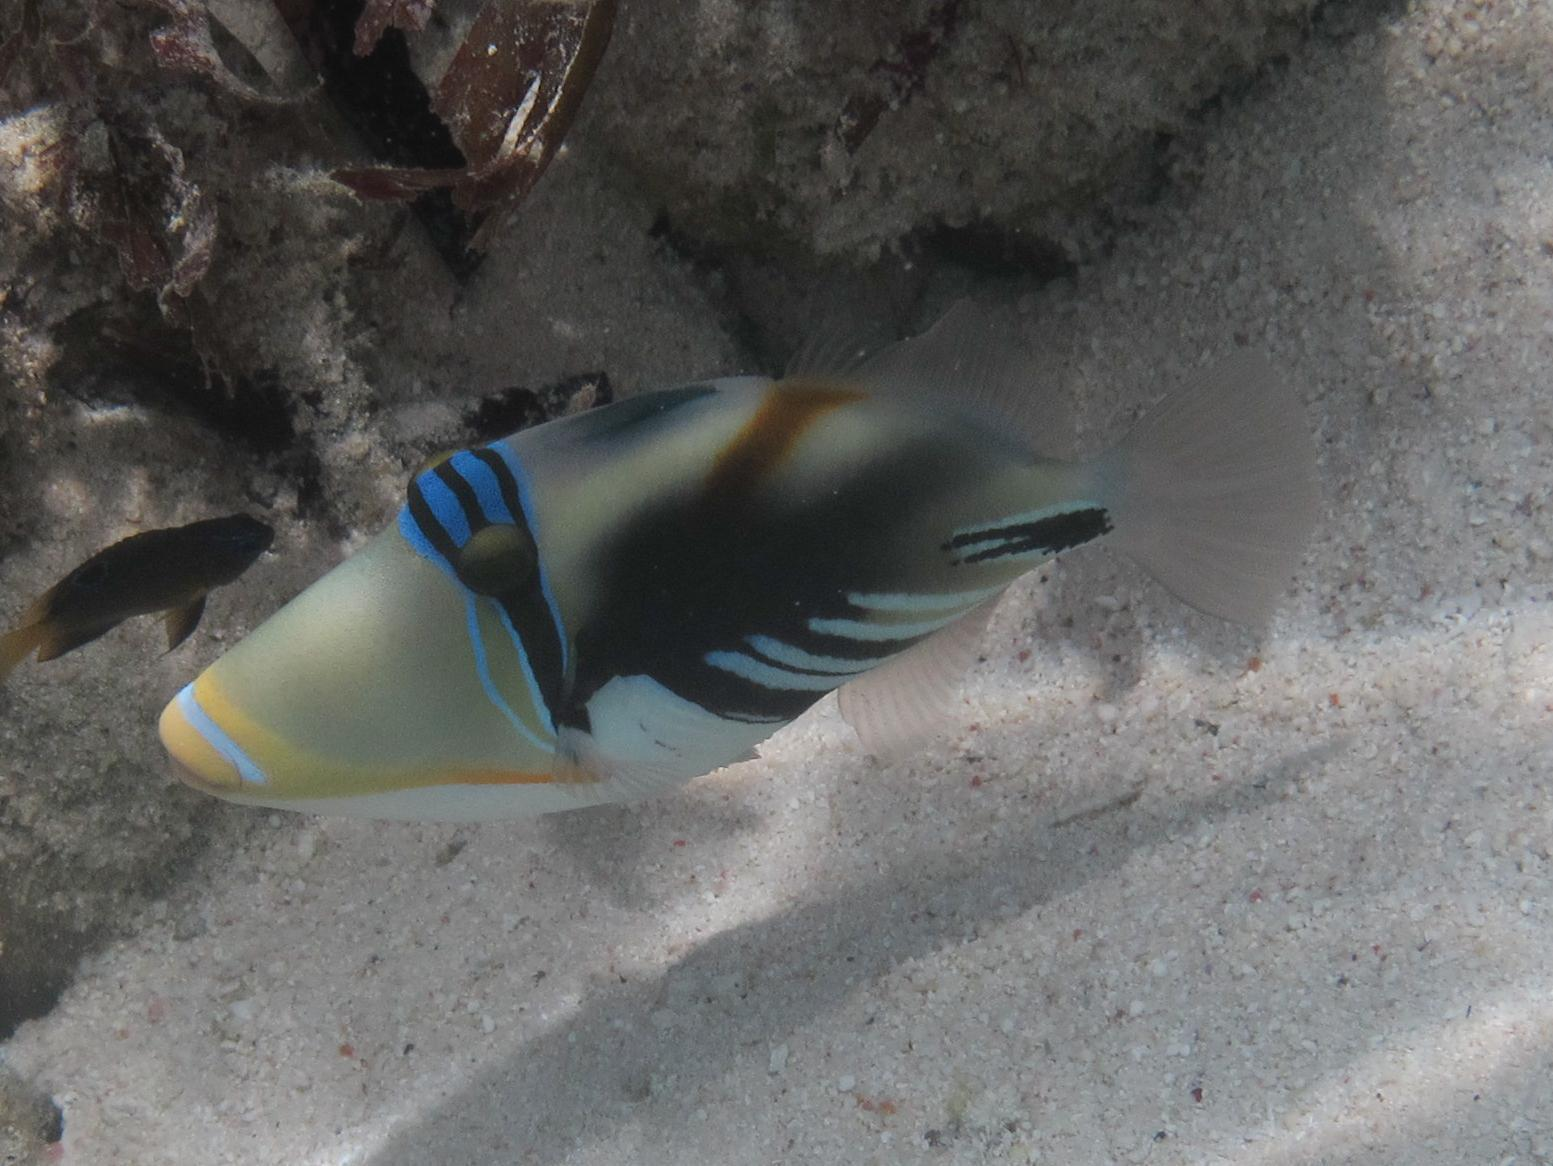Fish: (148, 295, 1339, 805)
